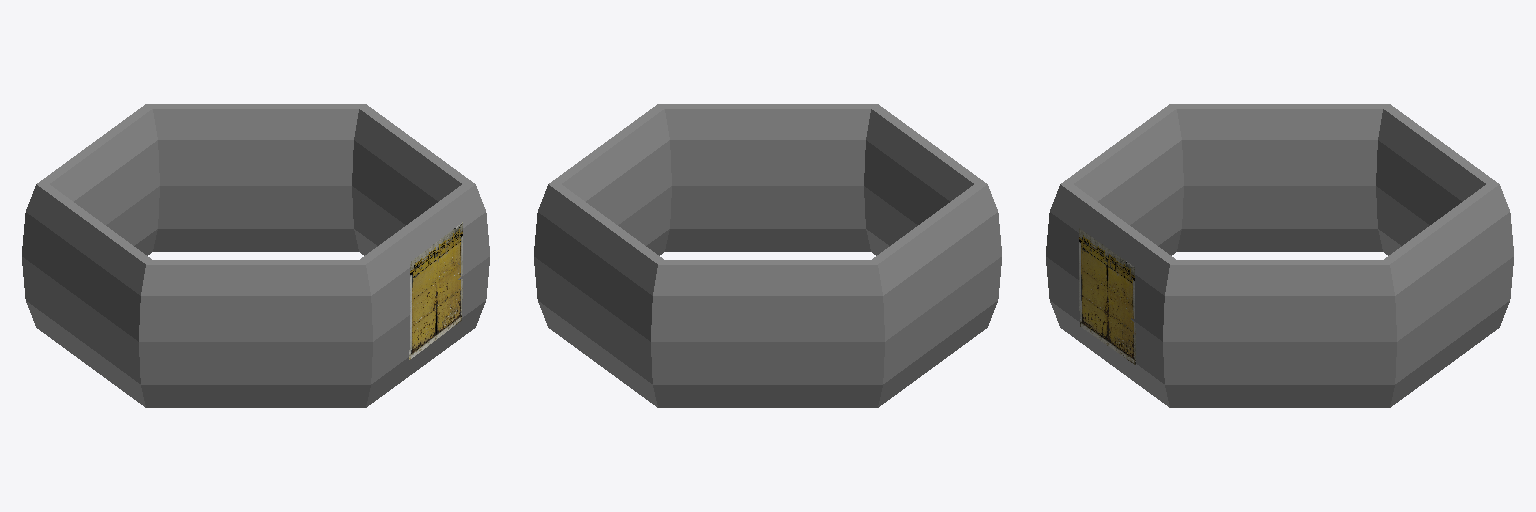
3 views of the same model, side by side, from view 1: azimuth 30°, elevation 25°; view 2: azimuth 150°, elevation 25°; view 3: azimuth 270°, elevation 25° (orthographic).
Visible parts, largest first — view 1: Torus001, Plane001; view 2: Torus001; view 3: Torus001, Plane001.
Part boxes in pixels (x1,y1,x2,y2): Torus001: (22, 104, 489, 407); Plane001: (409, 222, 462, 359); Torus001: (534, 104, 1001, 407); Torus001: (1046, 104, 1513, 407); Plane001: (1079, 228, 1135, 364).
Size of the model in its own units: 38.11 by 14.86 by 44.
2 materials, 1 textured.